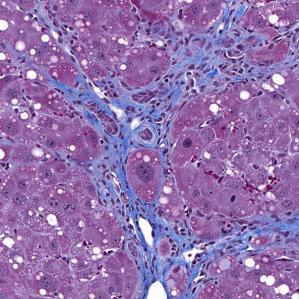fibrosis: (85, 76, 172, 158), (120, 206, 206, 282), (199, 22, 274, 82)
